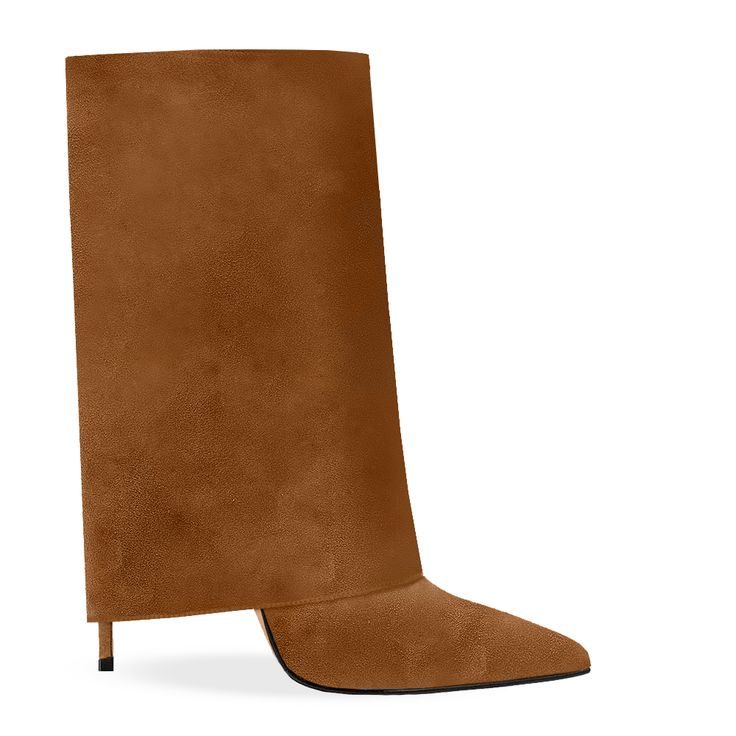gamuza: (65, 47, 591, 691)
